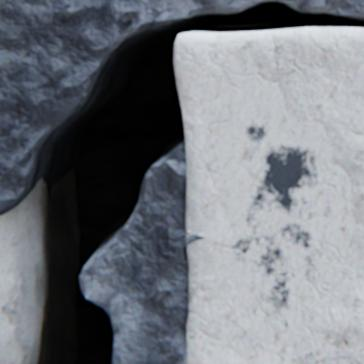brick: (174, 27, 363, 363), (0, 211, 10, 353)
crack: (0, 1, 363, 363)
